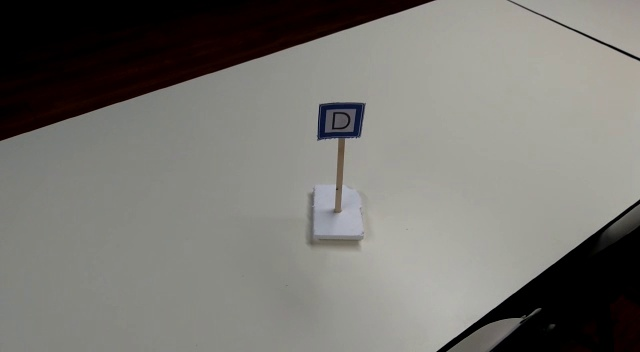durak: (316, 102, 364, 140)
